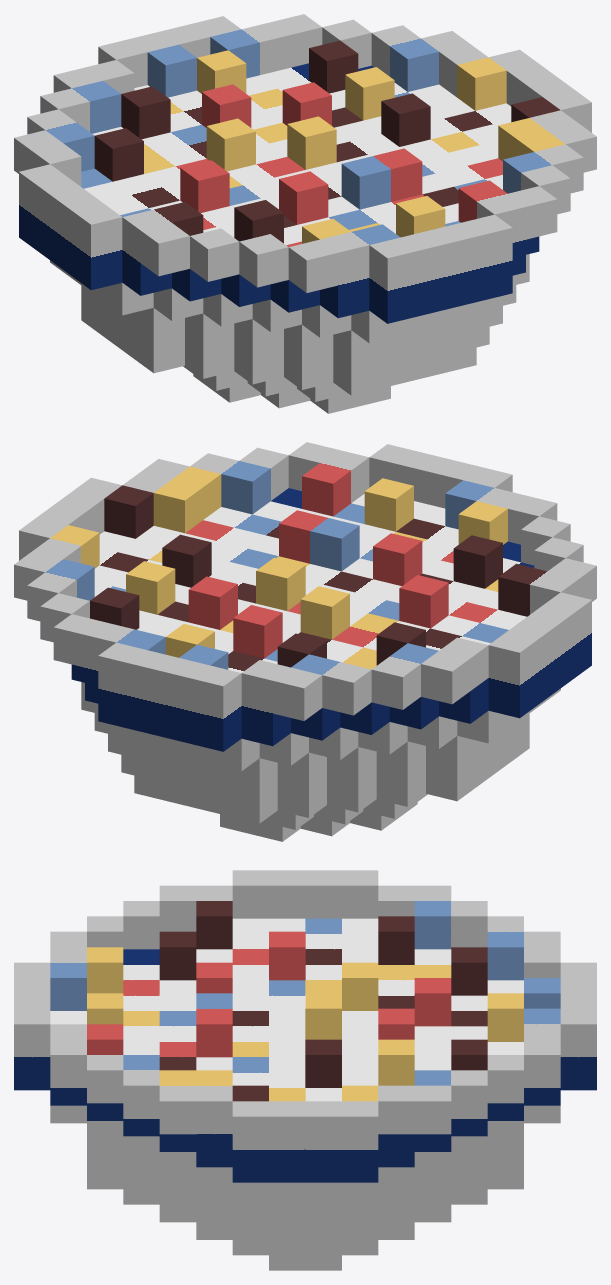
File: Platki_sniadaniowe.dae
The picture shows the model from 3 angles, top to bottom: view 1: azimuth 30°, elevation 25°; view 2: azimuth 150°, elevation 25°; view 3: azimuth 270°, elevation 25°; orthographic projection.
Parts seen in each view (by area): view 1: Breakfastcereals; view 2: Breakfastcereals; view 3: Breakfastcereals.
Part boxes in pixels (<box>): Breakfastcereals: <box>14,14,596,413</box>; Breakfastcereals: <box>14,442,596,841</box>; Breakfastcereals: <box>14,870,596,1270</box>.
Bounding box in the file's own units: 16 × 7 × 16.
Materials: 1 (1 with a texture image).
